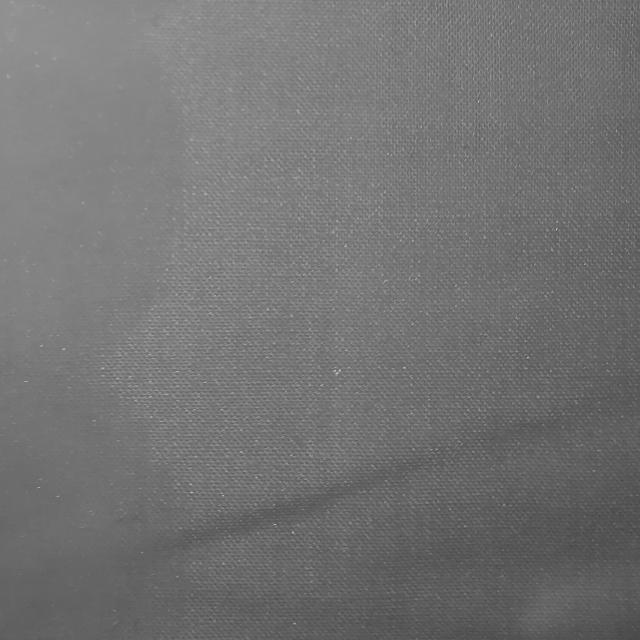Stain: (1, 0, 181, 640)
